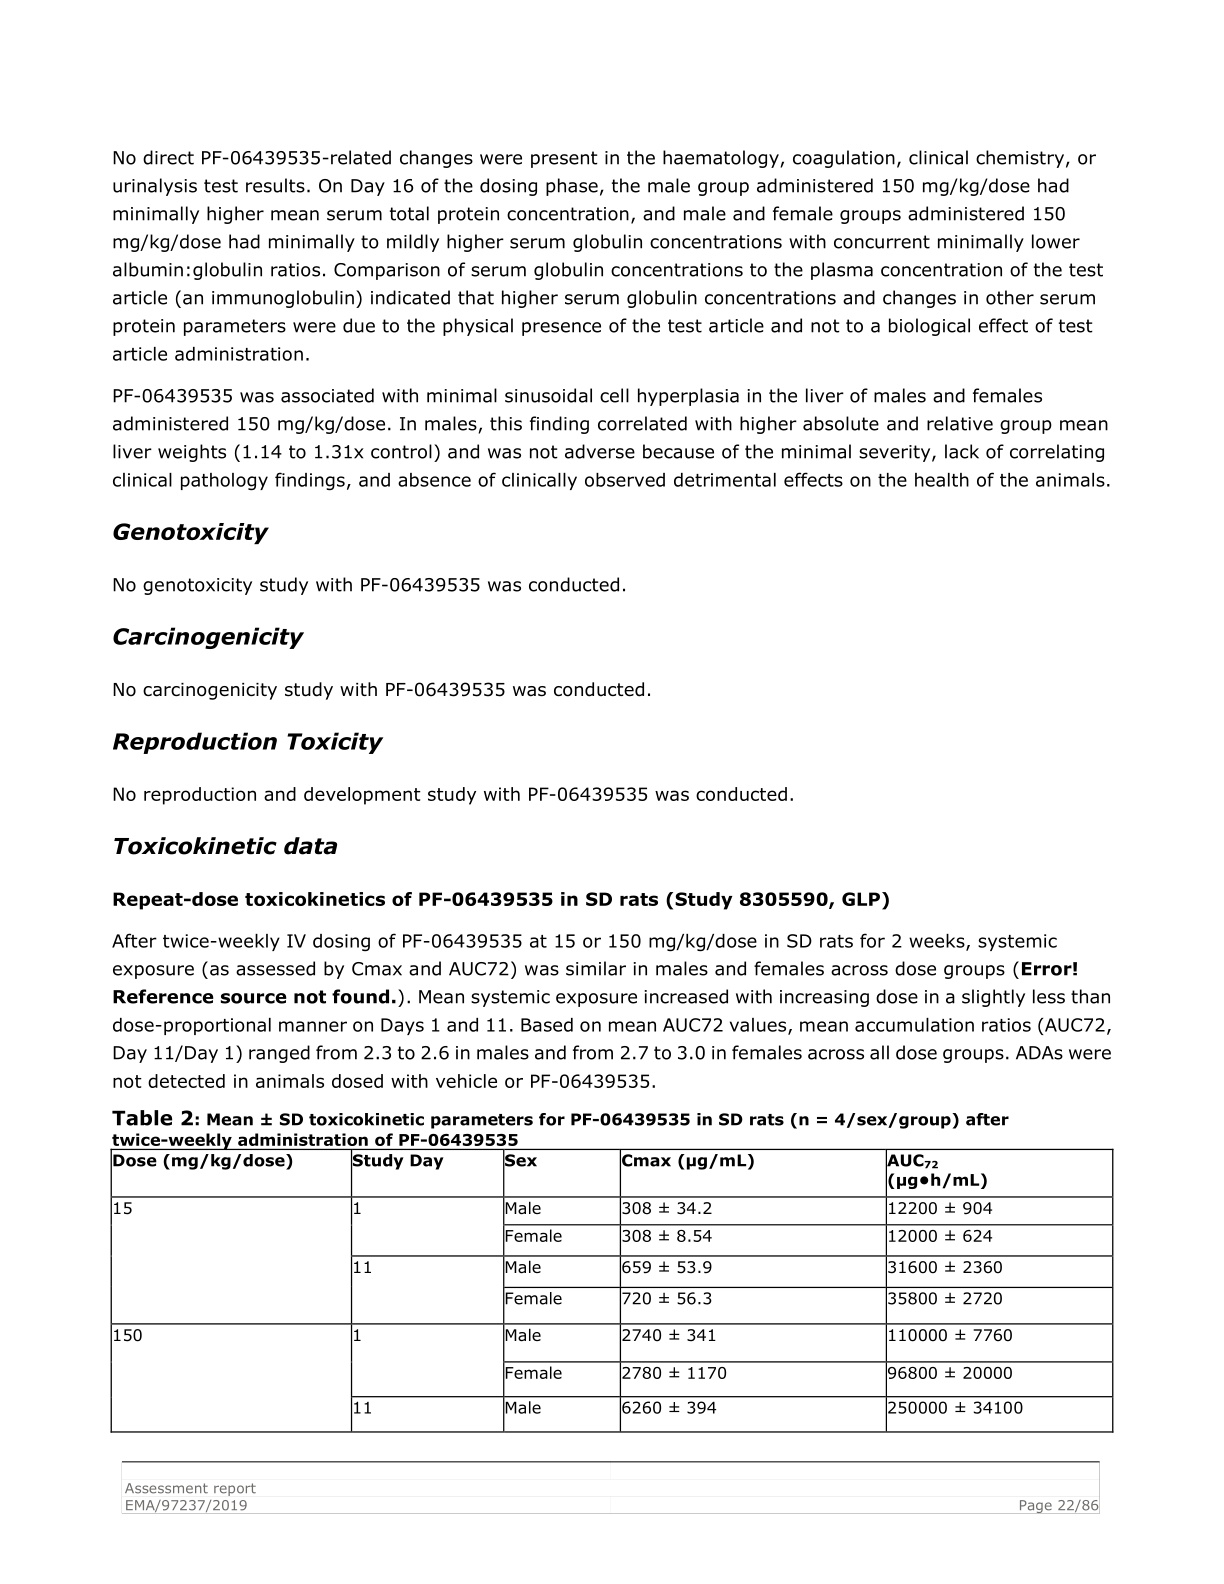merged_cells: (111, 1148, 1113, 1434)
